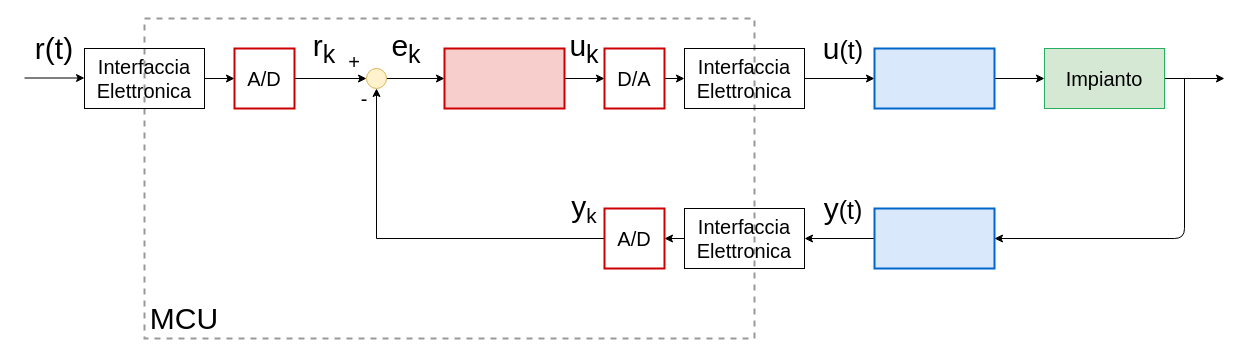
Some shapes in this 1250 by 356 pixel diagram are drawn without their labels. Here are the shapes that lost their labels. From the top down, the centre of each, then its label:
the point at 504,78: Controllore (PID)
the point at 934,78: Attuatori
the point at 934,238: Sensori
